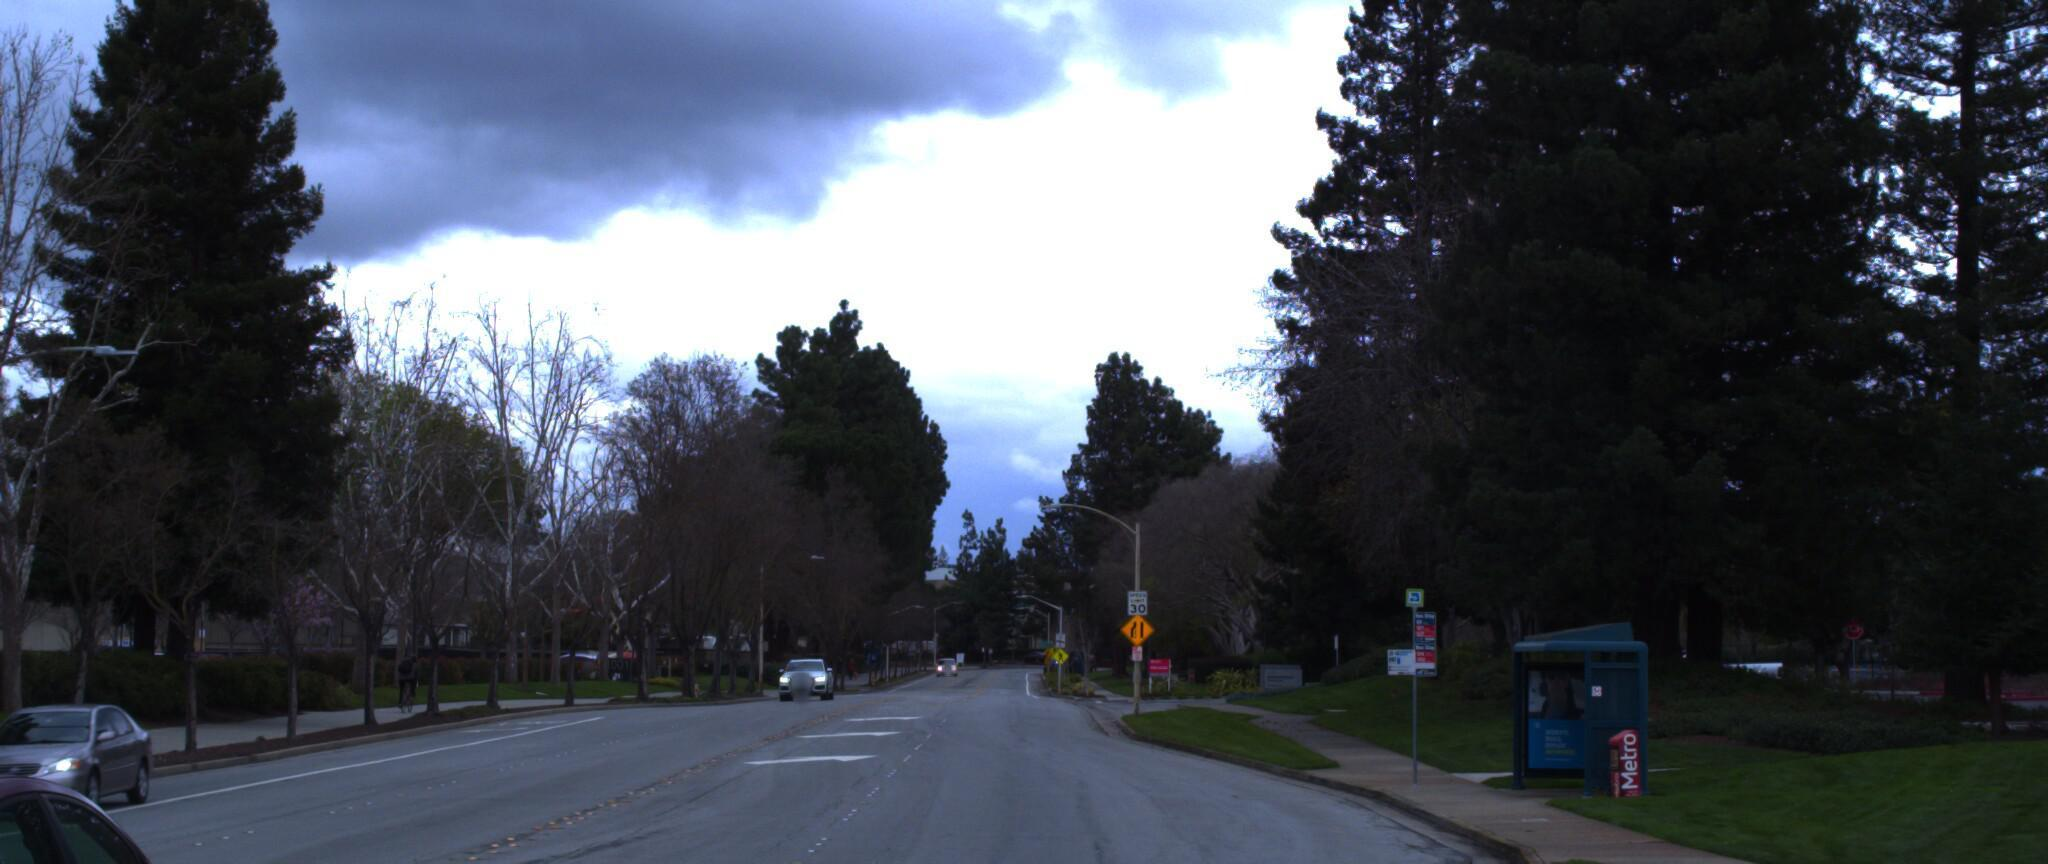car: (0, 743, 265, 864), (0, 689, 180, 803)
